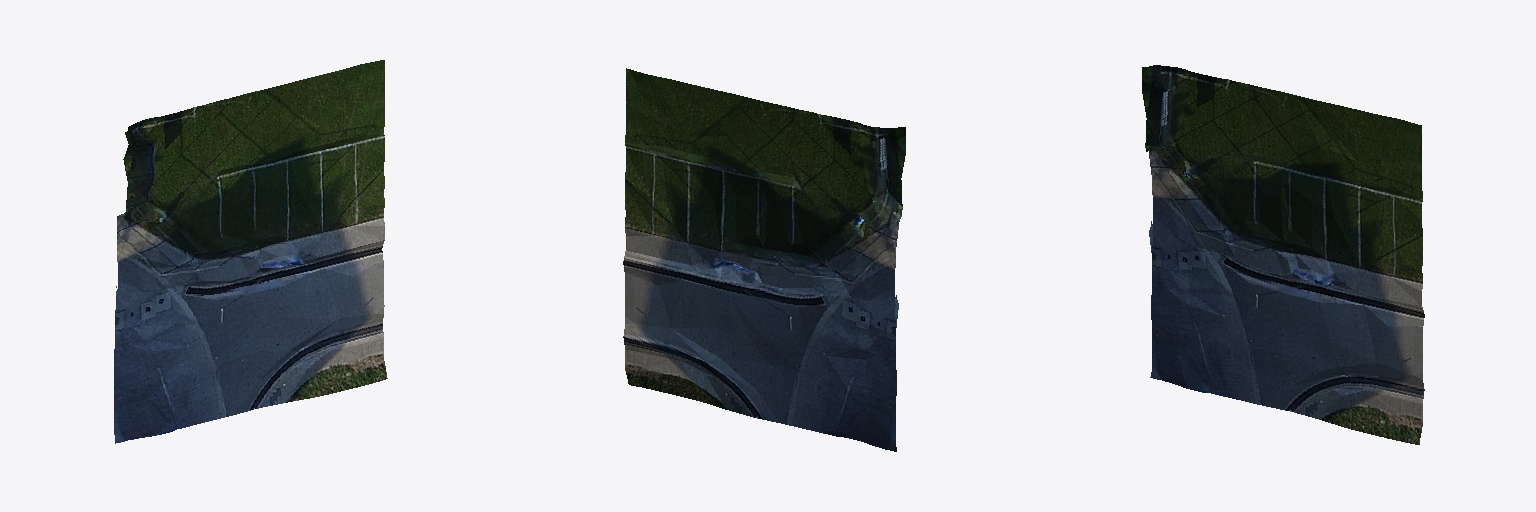
3 views of the same model, side by side, from view 1: azimuth 30°, elevation 25°; view 2: azimuth 150°, elevation 25°; view 3: azimuth 330°, elevation 25° (orthographic).
Visible parts, largest first — view 1: obj_0; view 2: obj_0; view 3: obj_0.
Boxes of the visible parts, x1=… form: obj_0: x1=114, y1=60, x2=387, y2=443; obj_0: x1=623, y1=68, x2=905, y2=451; obj_0: x1=1142, y1=65, x2=1424, y2=444.
Size of the model in its own units: 20.08 by 22.53 by 2.38.
Materials: 1 (1 with a texture image).